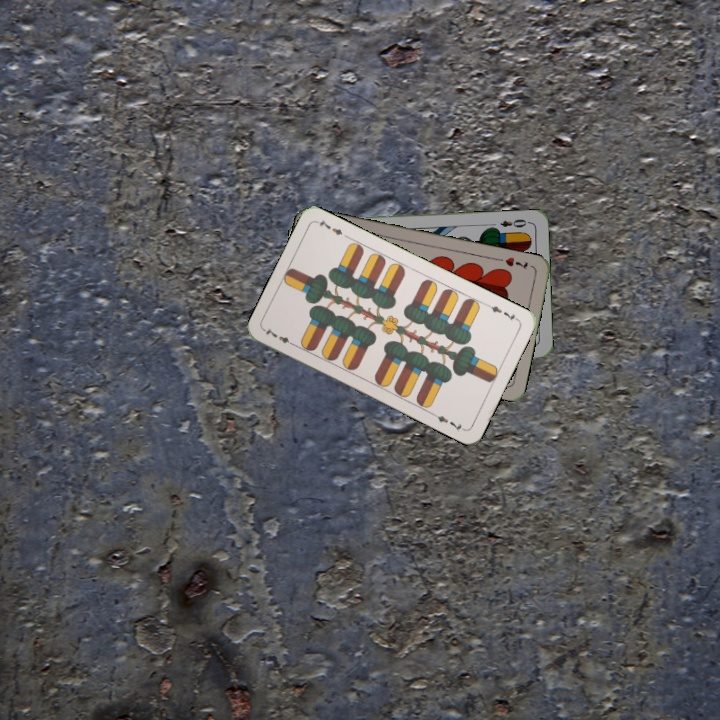E7: (260, 323, 299, 349), (483, 300, 521, 325)
EO: (496, 215, 532, 230)
H7: (501, 253, 530, 272)
